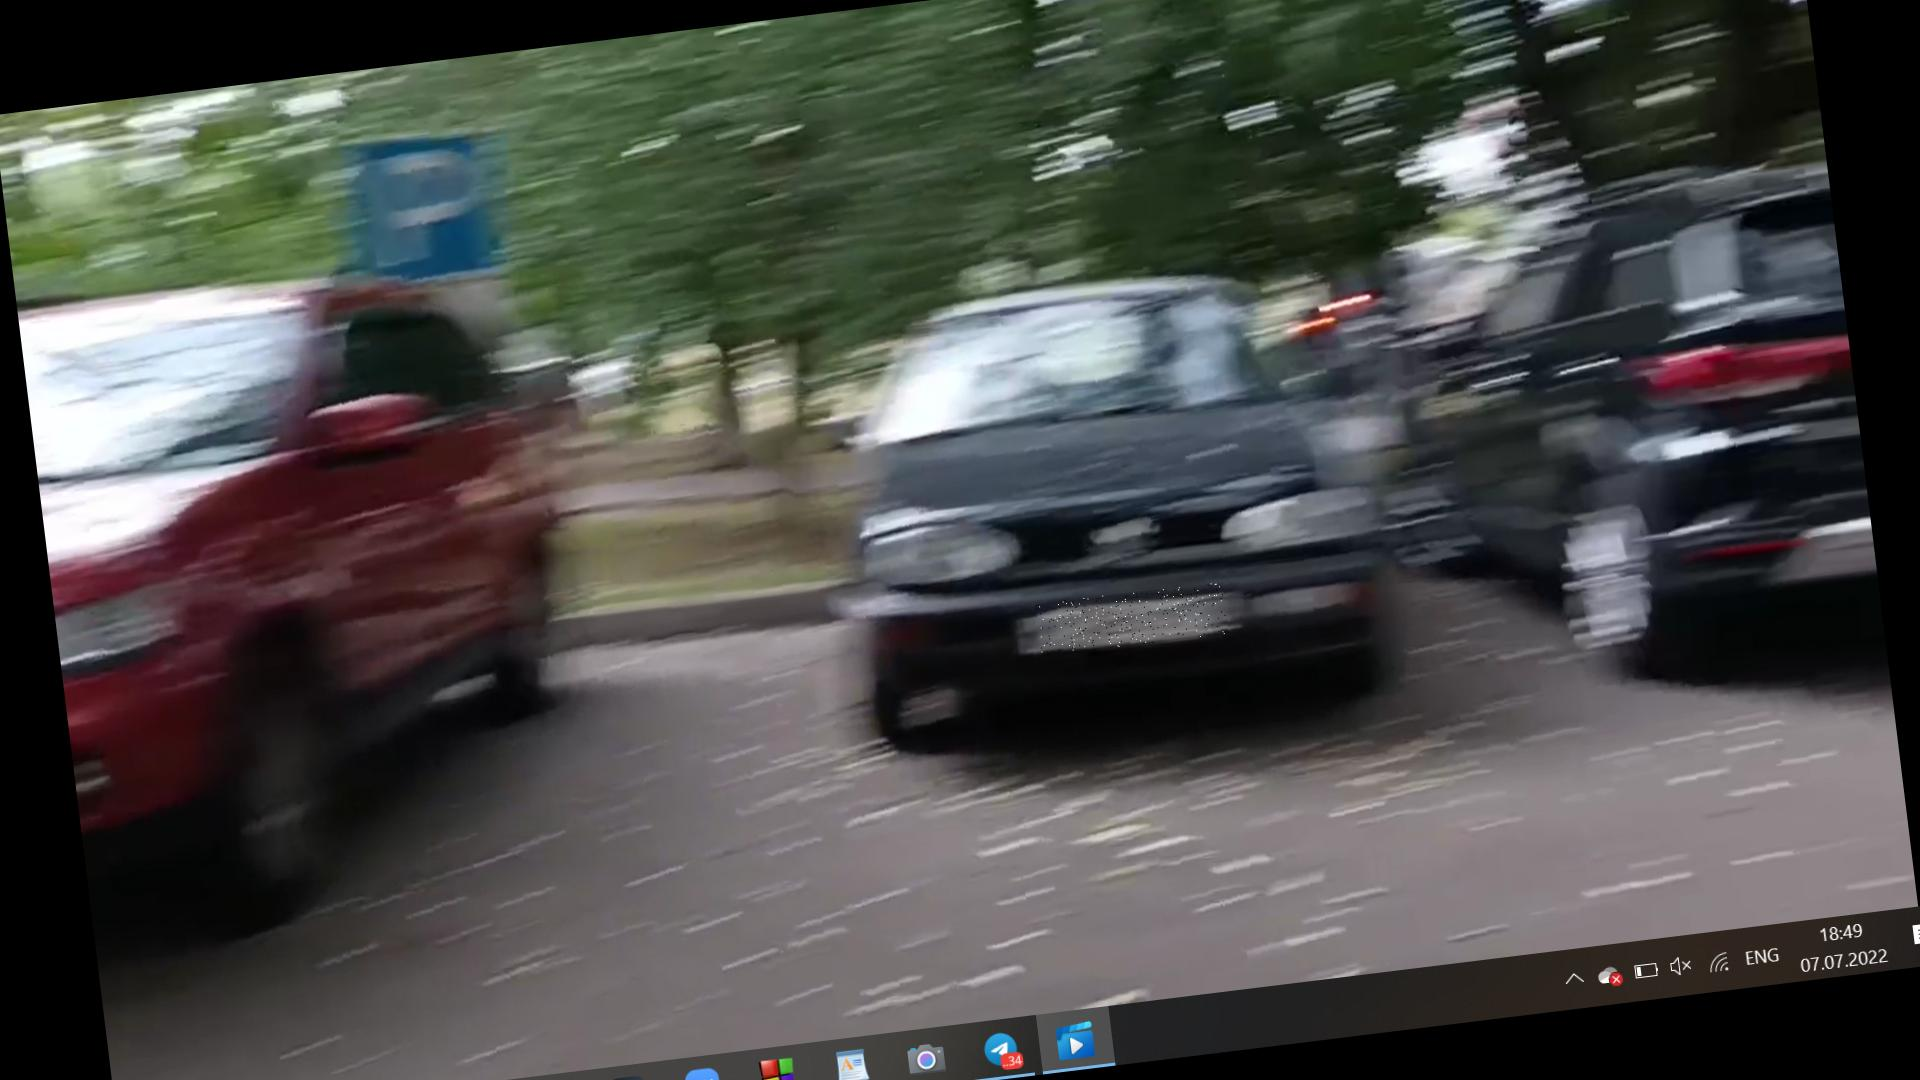plate: (1038, 582, 1231, 657)
